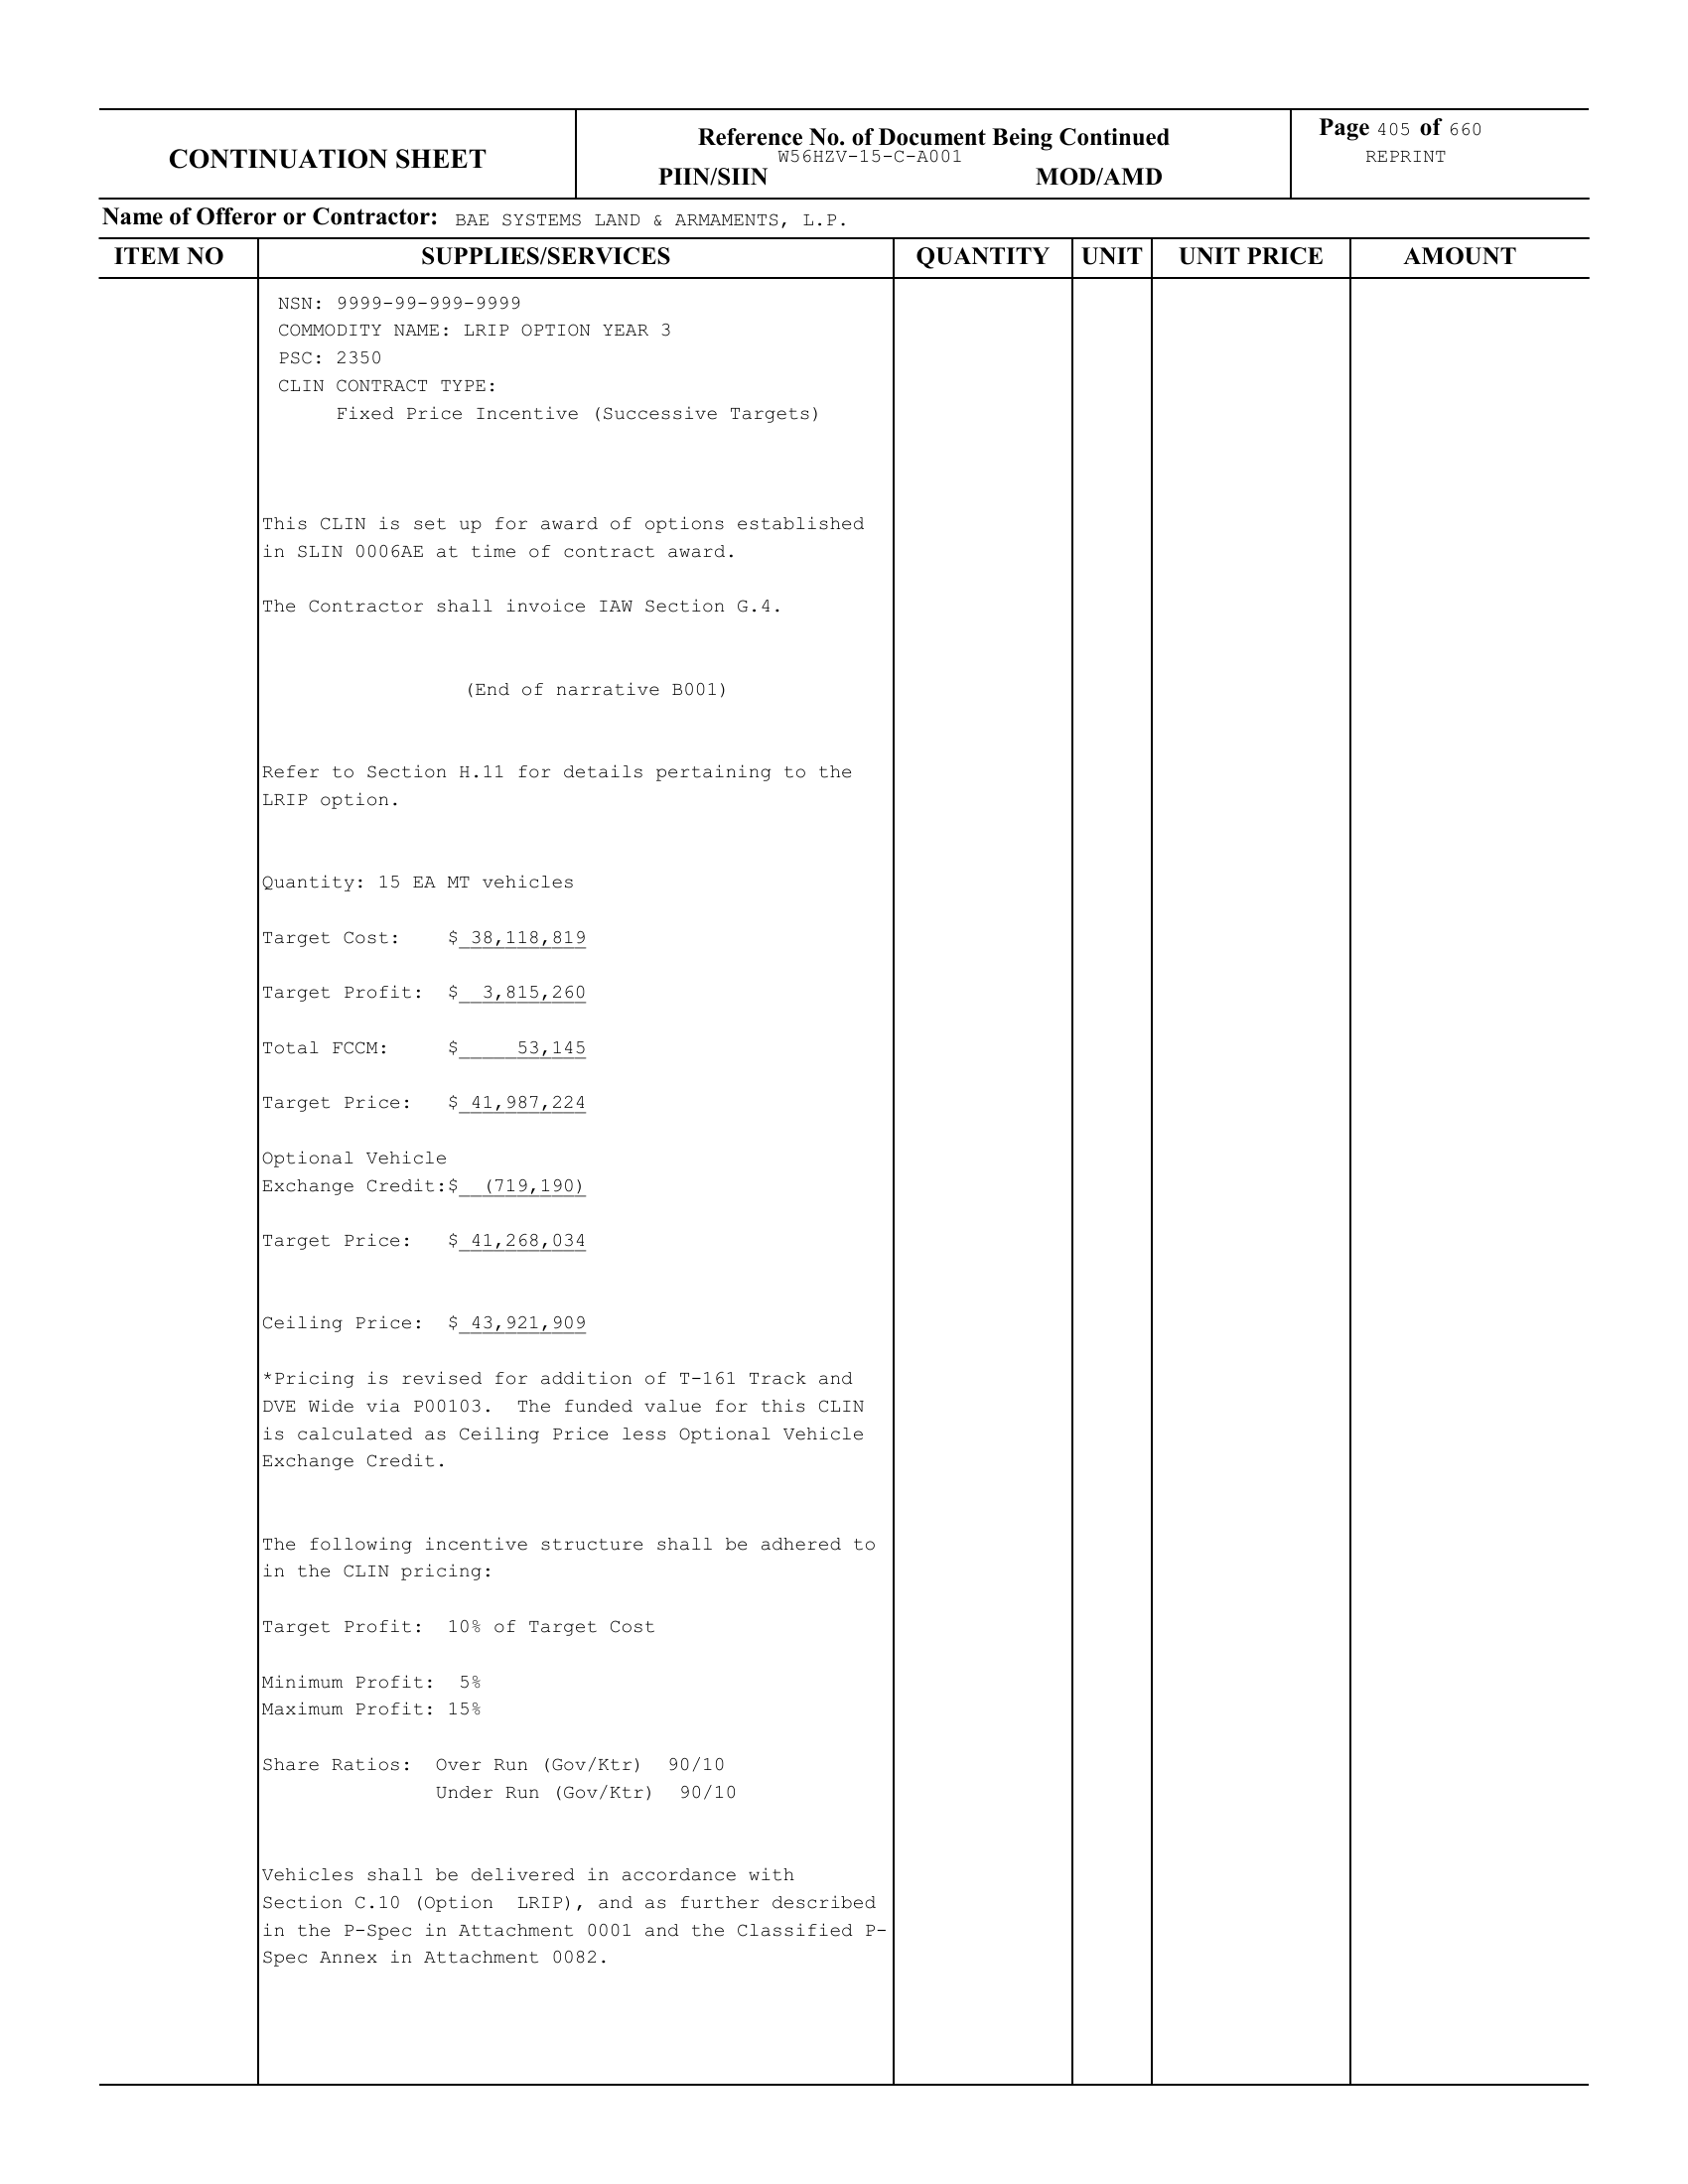table: (98, 238, 1592, 2085)
table column: (259, 239, 888, 2081), (1351, 238, 1596, 2085), (1154, 239, 1346, 2083), (892, 234, 1069, 2085), (98, 238, 255, 2085), (1075, 234, 1151, 2085)
table column header: (96, 239, 1601, 277)
table row: (96, 277, 1594, 2083)
